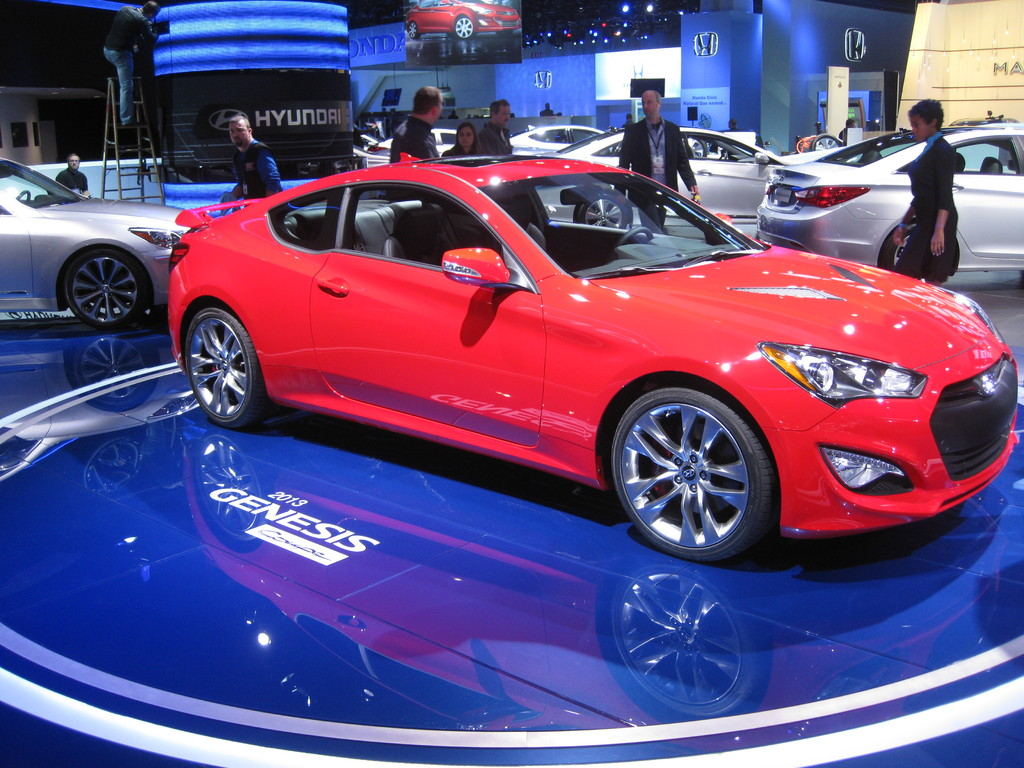Person: (55, 0, 960, 287)
